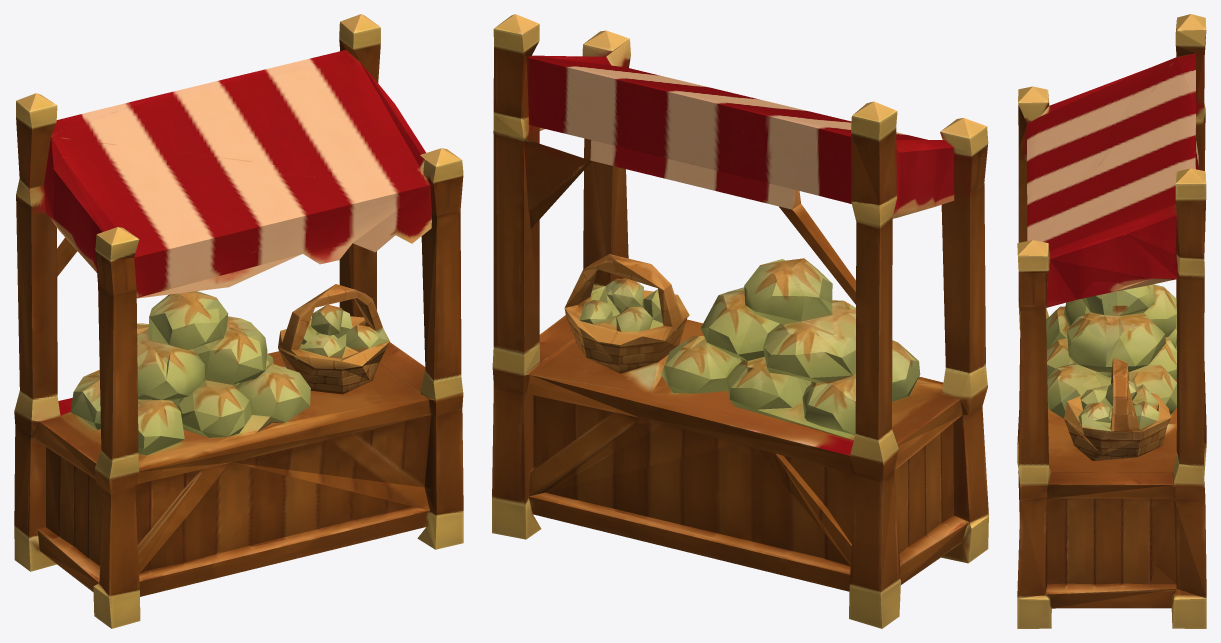
Rendered from TWN_PRP_stall_bread_A.glb.
3 renders of one model, left to right at view 1: azimuth 30°, elevation 25°; view 2: azimuth 150°, elevation 25°; view 3: azimuth 270°, elevation 25°, orthographic. The views are drawn at different scales.
Parts seen in each view (by area): view 1: Mesh_0; view 2: Mesh_0; view 3: Mesh_0.
Boxes of the visible parts, box(x1,y1,x2,y2) form: Mesh_0: box(14, 14, 463, 628); Mesh_0: box(492, 14, 988, 628); Mesh_0: box(1017, 14, 1206, 628).
Size of the model in its own units: 1.51 by 1.9 by 0.7161.
Materials: 1 (1 with a texture image).
